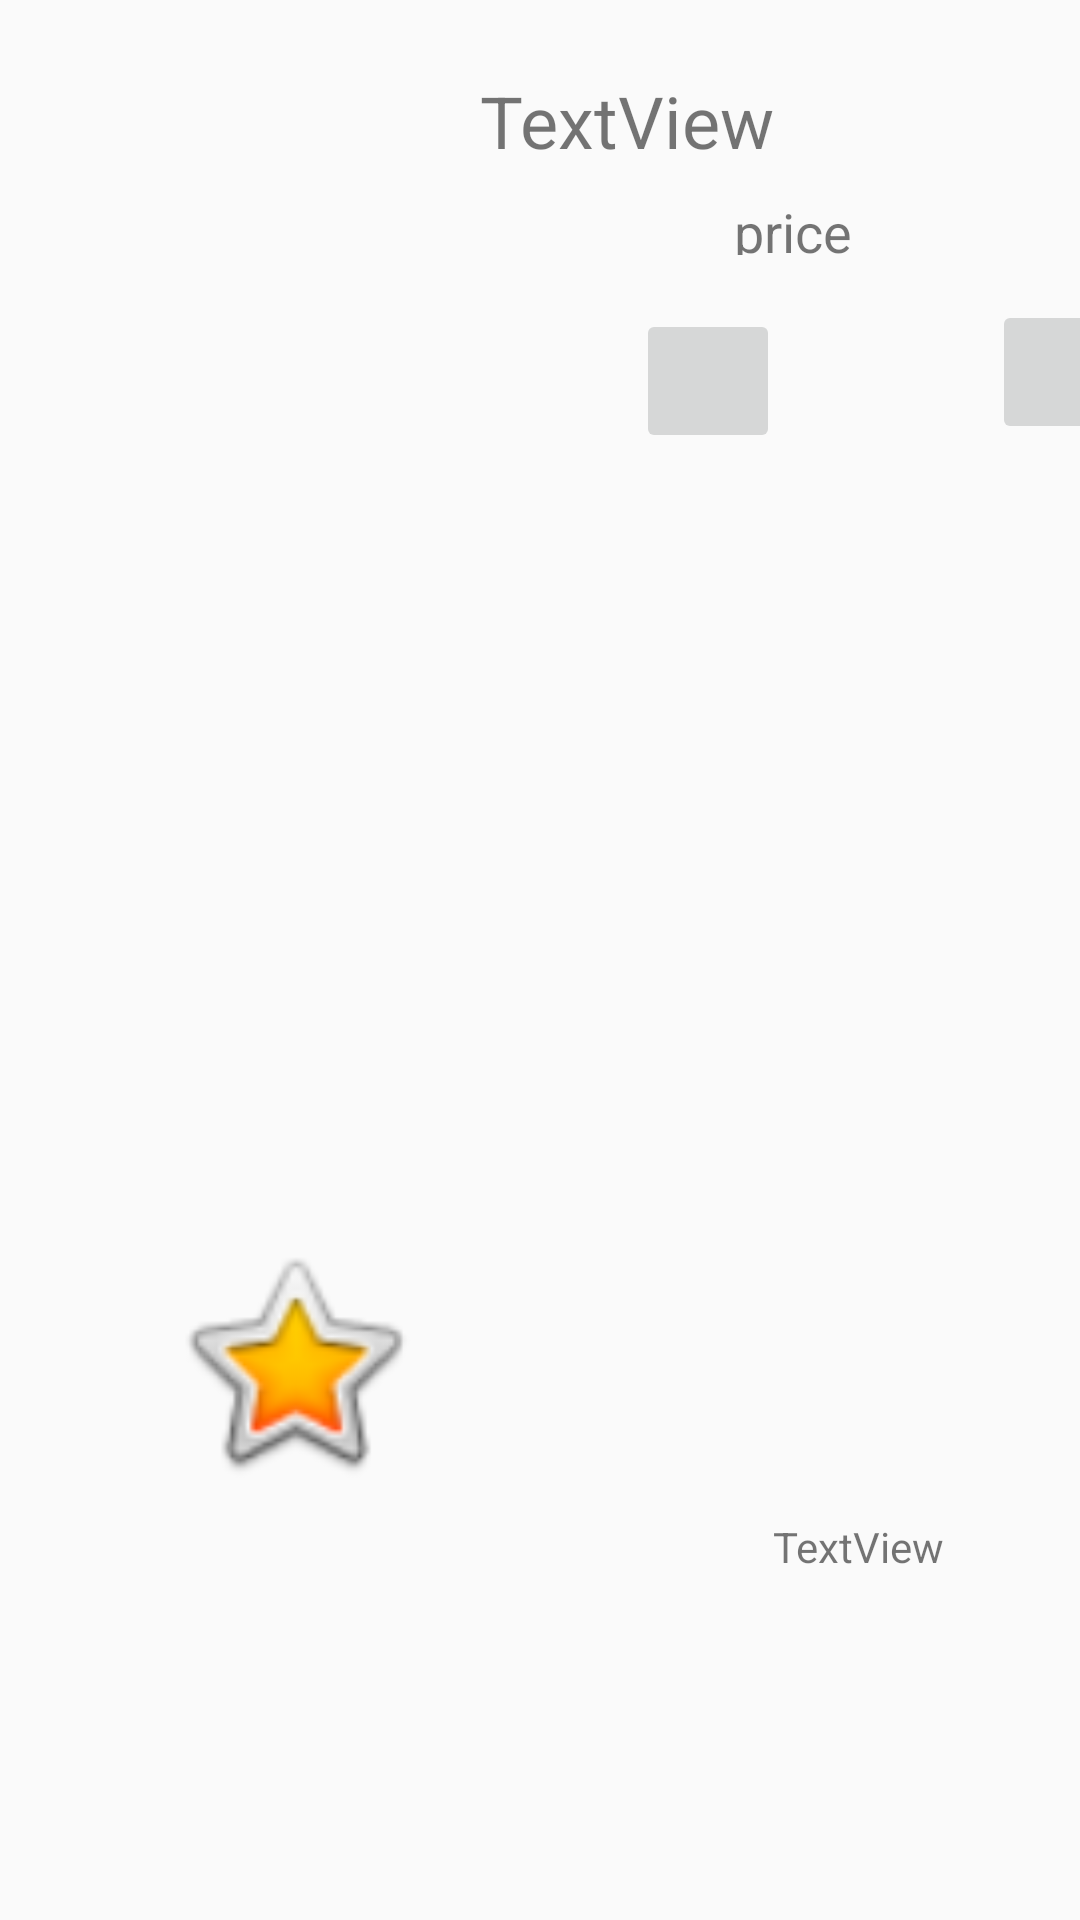

Screen size 1080*1920. Icon name, then its center in pixels as (x=x, y=y):
star on: (x=296, y=1364)
